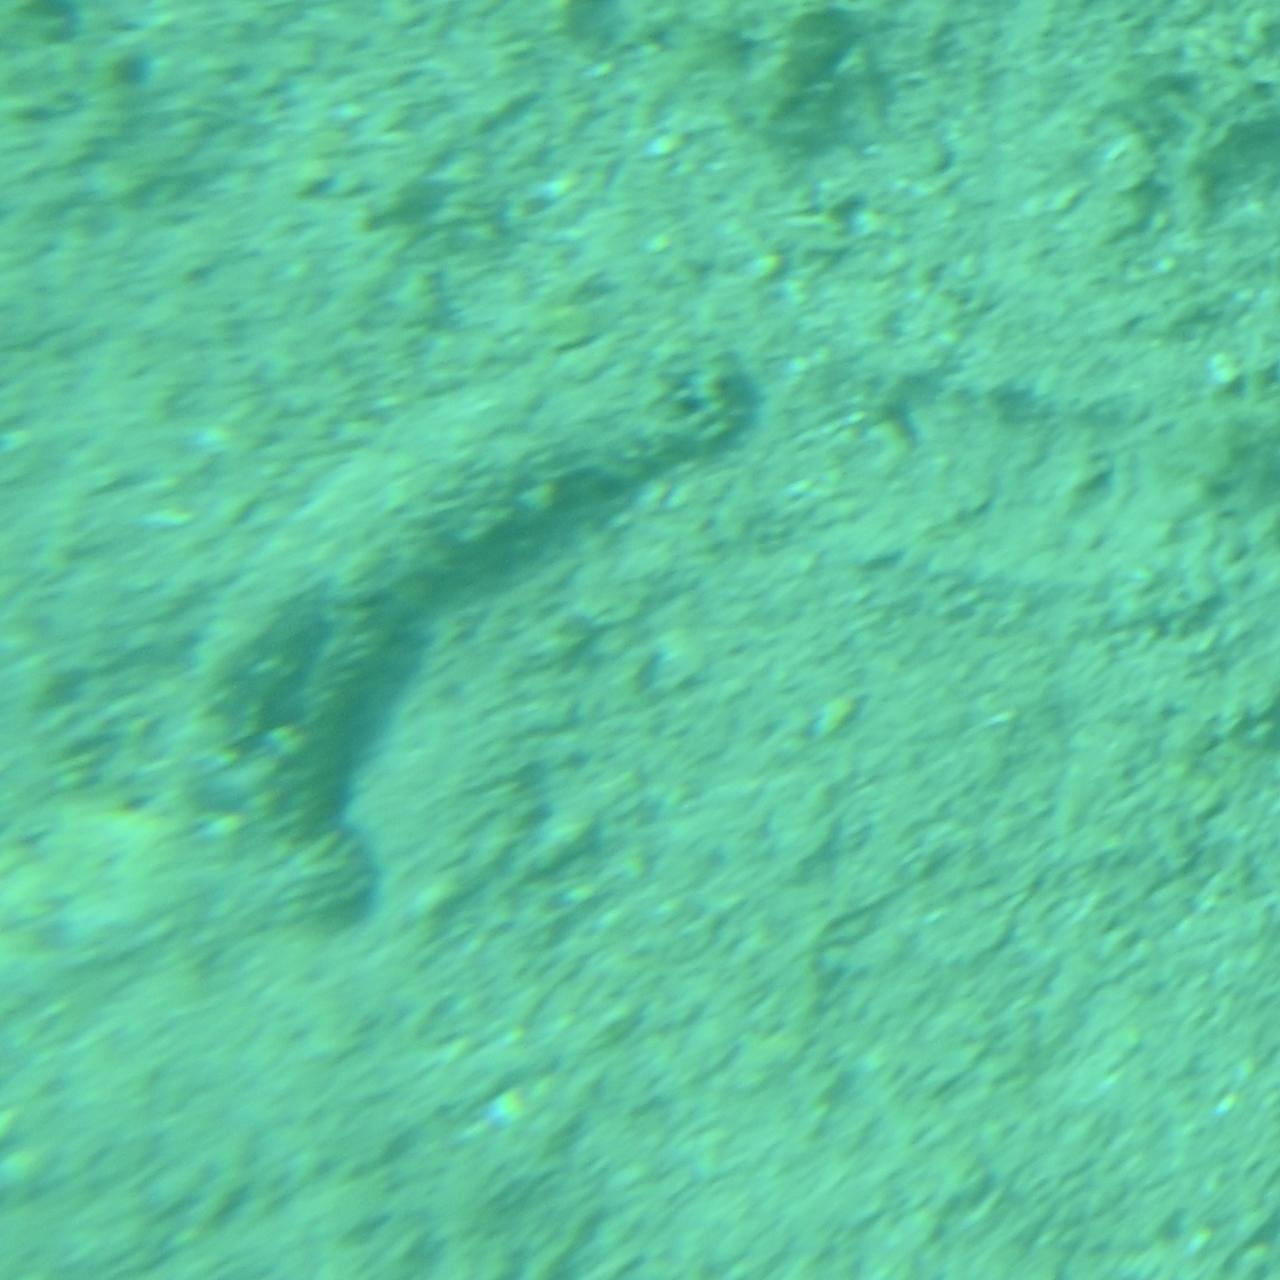Holothuria tubulosa: (134, 330, 771, 950)
